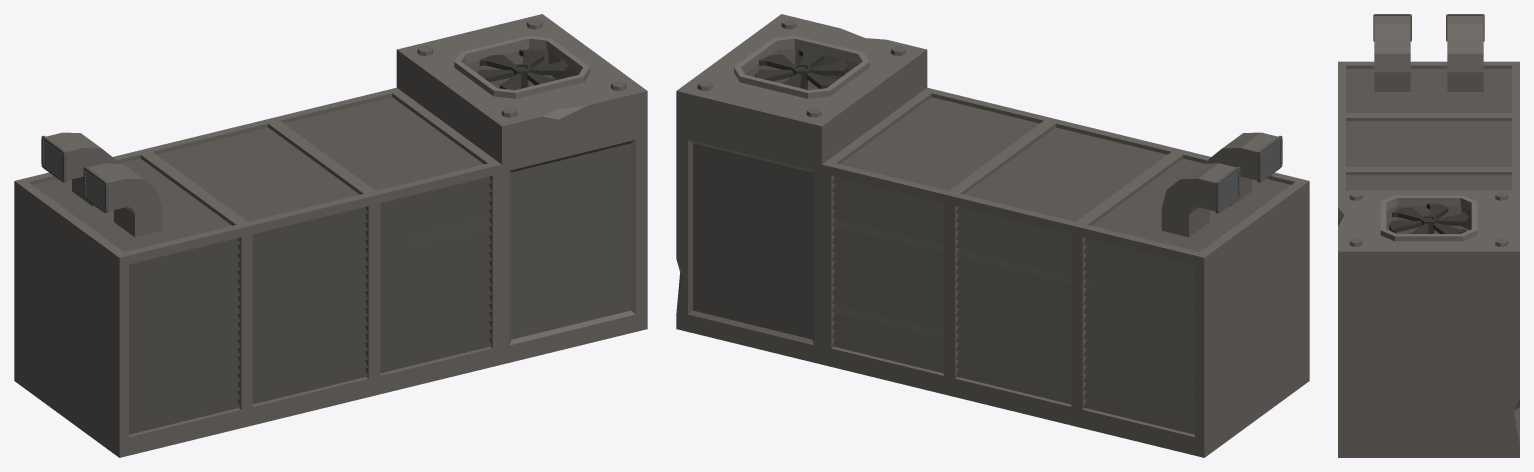
Rendered from SM_Props_Roof_Vent_AC_Unit_01.fbx.
3 renders of one model, left to right at view 1: azimuth 30°, elevation 25°; view 2: azimuth 150°, elevation 25°; view 3: azimuth 270°, elevation 25°, orthographic. The views are drawn at different scales.
Parts seen in each view (by area): view 1: SM_Props_Roof_Vent_AC_Unit_01, SM_Props_Roof_Vent_AC_Unit_01_Fan; view 2: SM_Props_Roof_Vent_AC_Unit_01, SM_Props_Roof_Vent_AC_Unit_01_Fan; view 3: SM_Props_Roof_Vent_AC_Unit_01, SM_Props_Roof_Vent_AC_Unit_01_Fan.
Part boxes in pixels (box(x1,y1,x2,y2)): SM_Props_Roof_Vent_AC_Unit_01: box(14, 14, 647, 457); SM_Props_Roof_Vent_AC_Unit_01_Fan: box(477, 49, 568, 90); SM_Props_Roof_Vent_AC_Unit_01: box(676, 14, 1309, 457); SM_Props_Roof_Vent_AC_Unit_01_Fan: box(755, 49, 848, 89); SM_Props_Roof_Vent_AC_Unit_01: box(1338, 14, 1519, 457); SM_Props_Roof_Vent_AC_Unit_01_Fan: box(1389, 203, 1468, 233).
Size of the model in its own units: 580 by 271 by 200.
